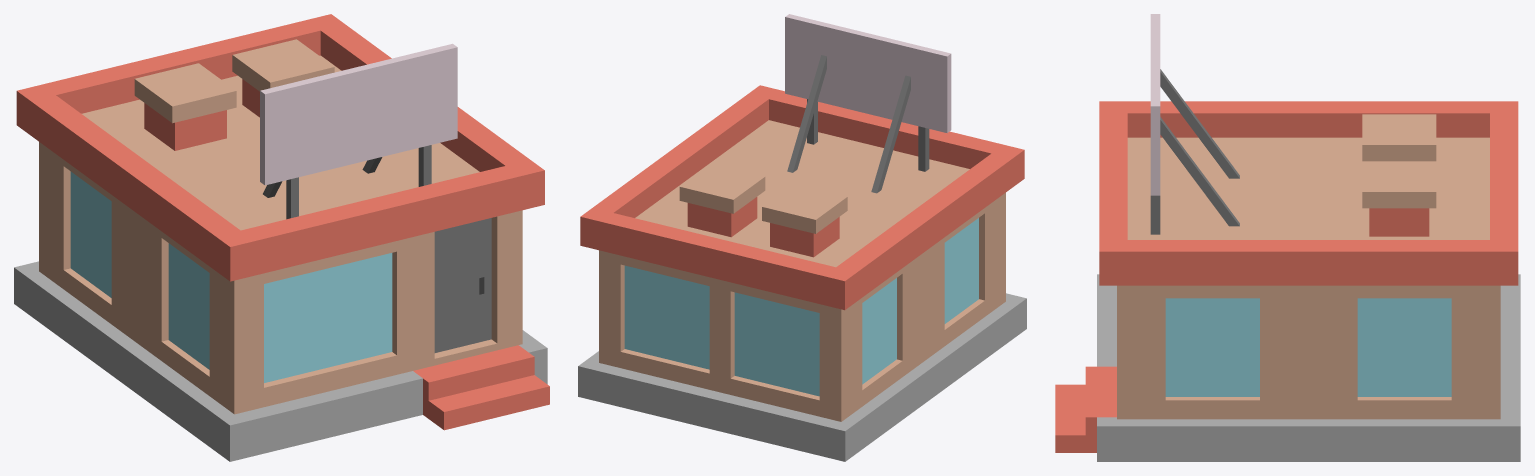
Rendered from House 1.2.fbx.
3 renders of one model, left to right at view 1: azimuth 30°, elevation 25°; view 2: azimuth 150°, elevation 25°; view 3: azimuth 270°, elevation 25°, orthographic. The views are drawn at different scales.
Parts seen in each view (by area): view 1: House_Type1_2; view 2: House_Type1_2; view 3: House_Type1_2.
Part boxes in pixels (left/top/right/bottom): House_Type1_2: left=14, top=14, right=549, bottom=461; House_Type1_2: left=578, top=14, right=1026, bottom=461; House_Type1_2: left=1055, top=14, right=1520, bottom=461.
Size of the model in its own units: 364 by 364 by 471.
